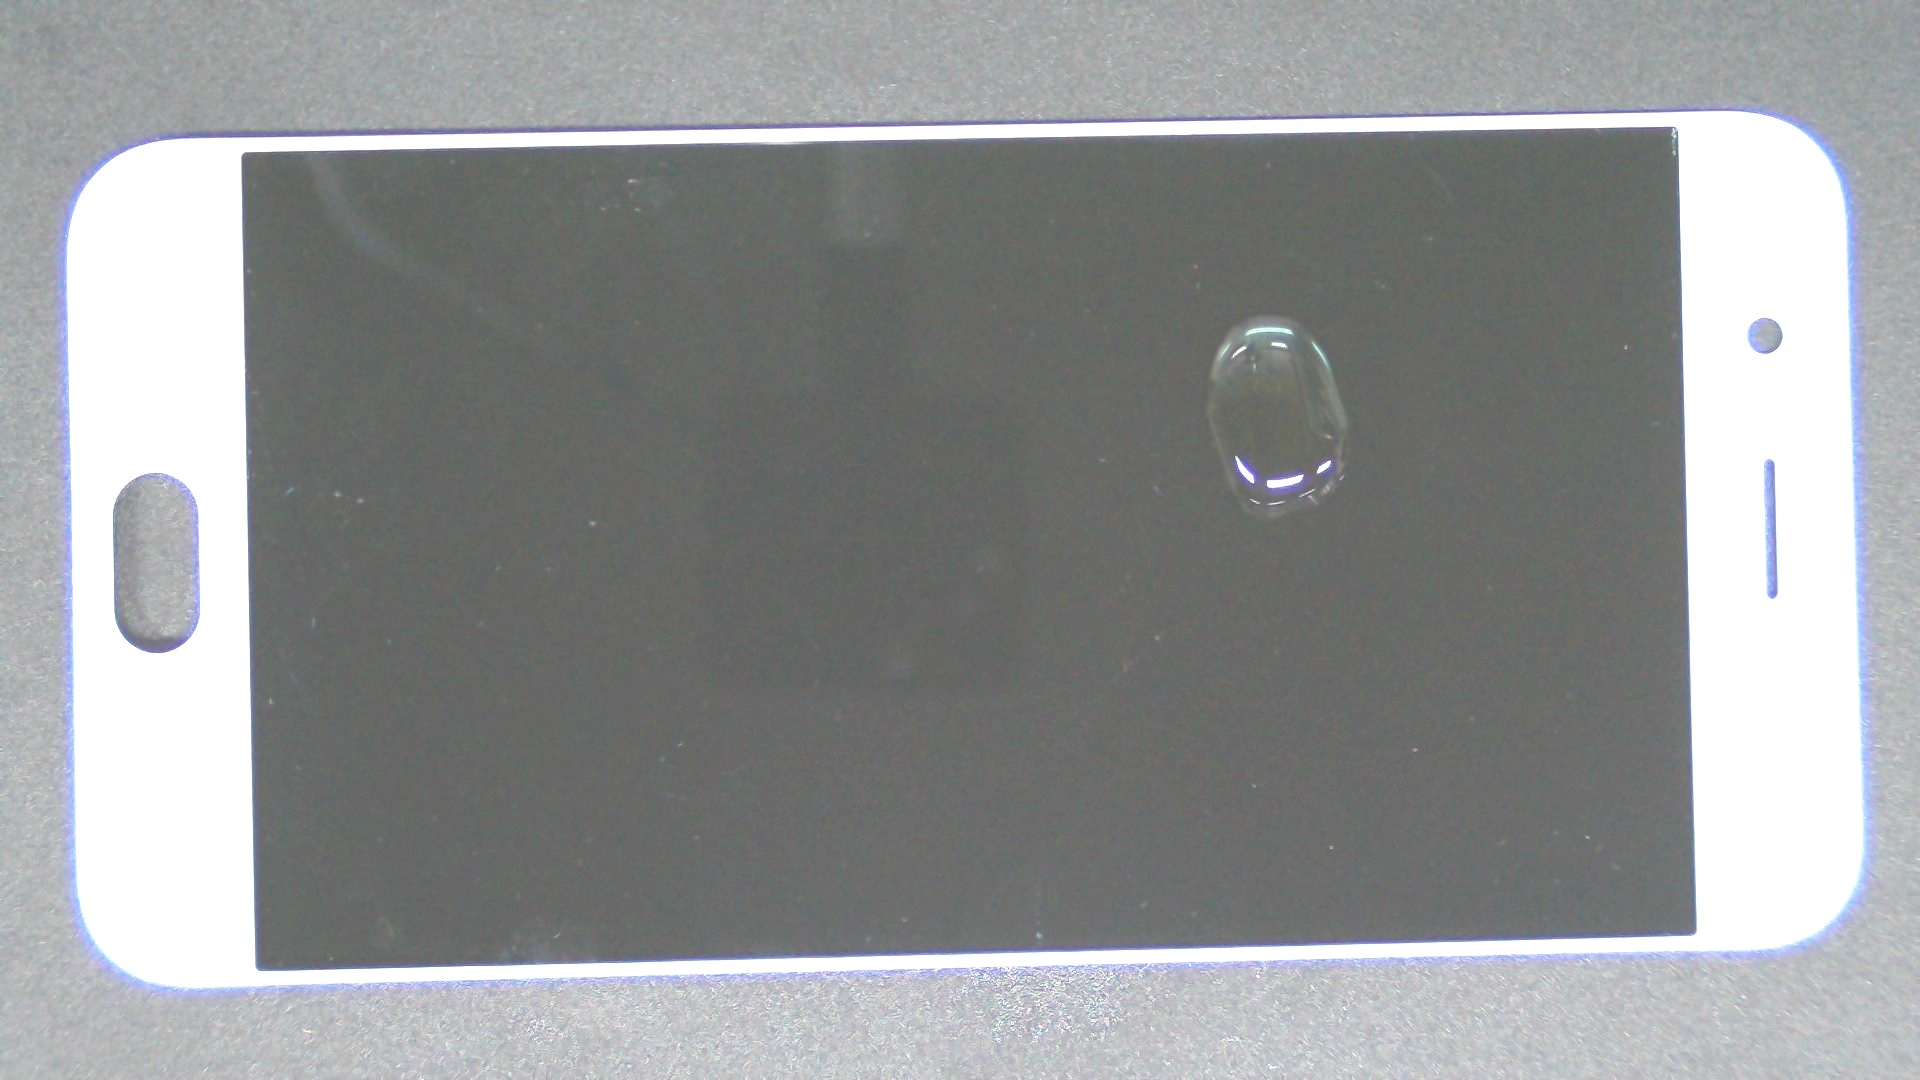oil: (636, 157, 1905, 472)
